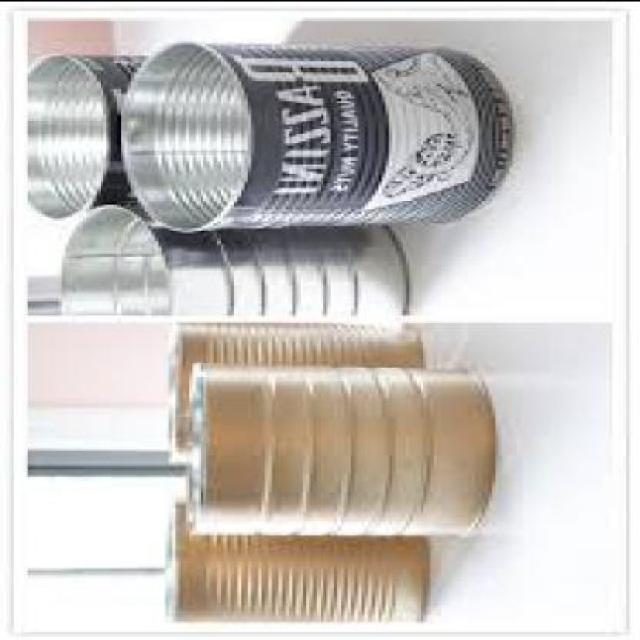METAL: (117, 38, 512, 228), (182, 358, 496, 534), (56, 203, 410, 309), (168, 319, 424, 461), (165, 496, 427, 619), (28, 49, 150, 212)
